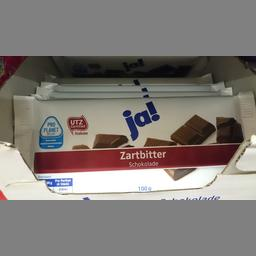chocolate: (10, 94, 254, 188)
